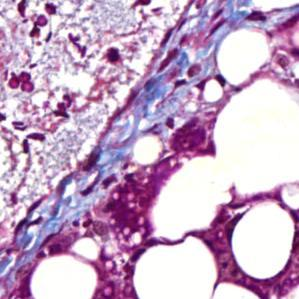steatosis: (231, 201, 296, 284), (211, 27, 275, 84), (128, 131, 166, 168)
